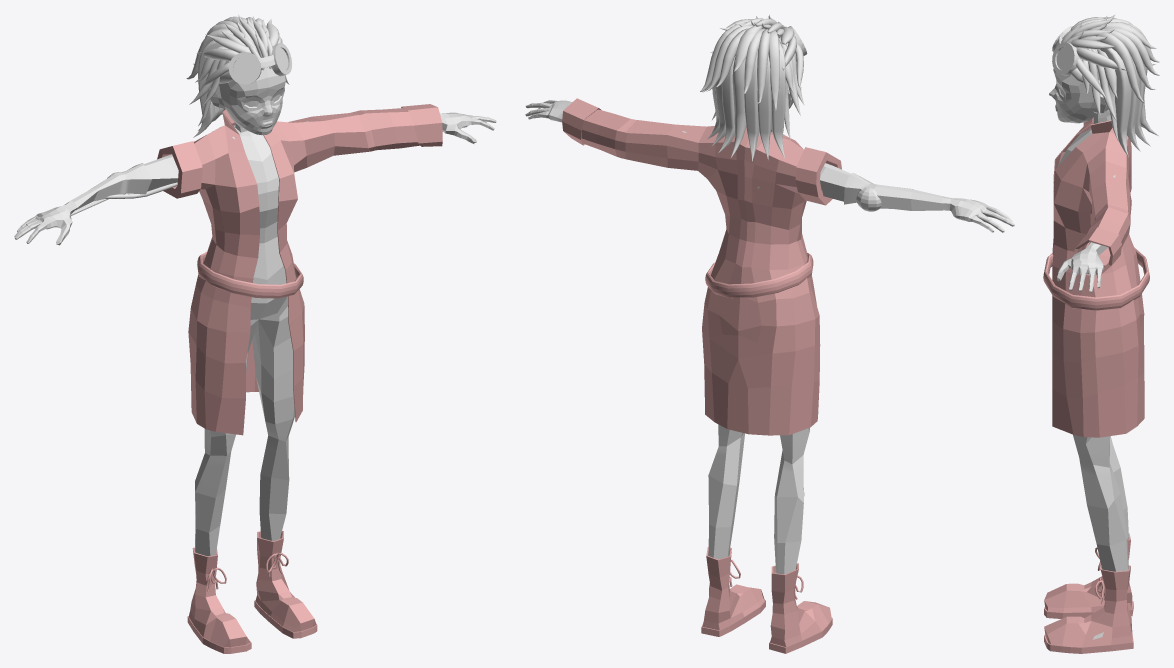
The model's file is Player_model_Final.fbx.
The picture shows the model from 3 angles, left to right: view 1: azimuth 30°, elevation 25°; view 2: azimuth 150°, elevation 25°; view 3: azimuth 270°, elevation 25°; orthographic projection.
Parts seen in each view (by area): view 1: sweep54; view 2: sweep54; view 3: sweep54.
Boxes of the visible parts, x1=… form: sweep54: x1=14, y1=14, x2=496, y2=653; sweep54: x1=525, y1=14, x2=1014, y2=653; sweep54: x1=1043, y1=14, x2=1159, y2=653.
Bounding box in the file's own units: 1.42 × 1.71 × 0.2951.
